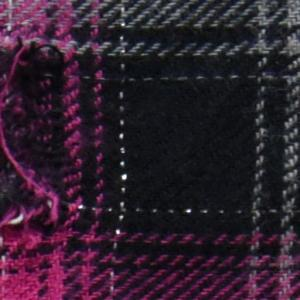Damage: (1, 34, 110, 251)
